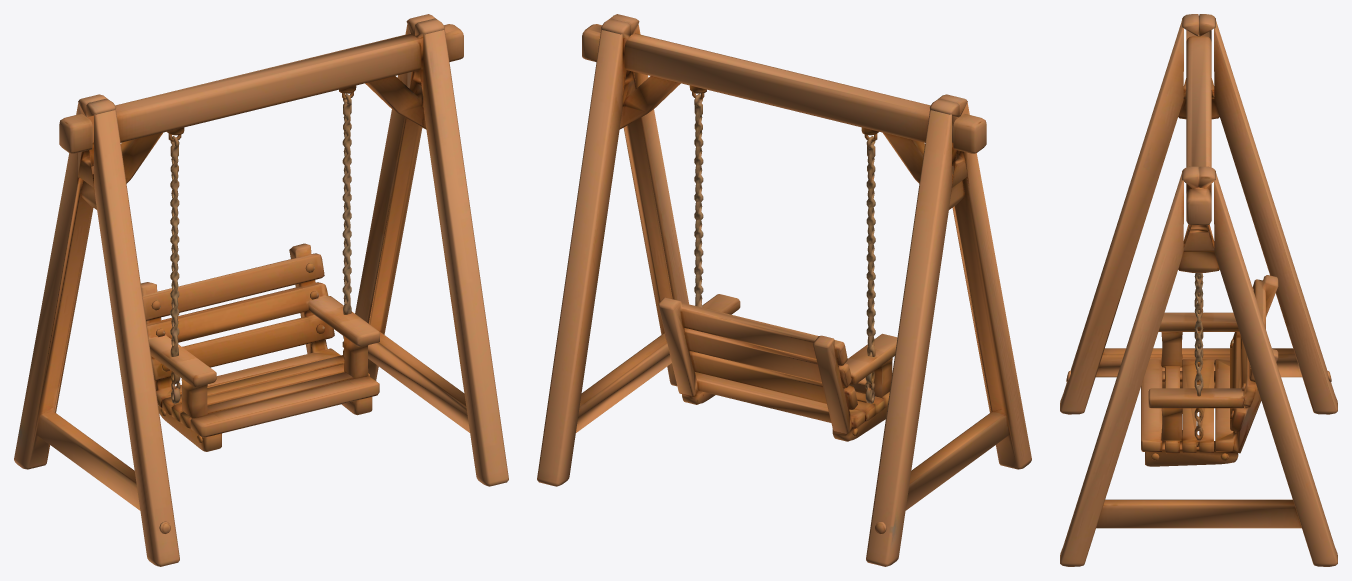
Rendered from Outdoor__a_wooden_swing_set_ebc9b573_v1.cluster.glb.
The picture shows the model from 3 angles, left to right: view 1: azimuth 30°, elevation 25°; view 2: azimuth 150°, elevation 25°; view 3: azimuth 270°, elevation 25°; orthographic projection. The views are drawn at different scales.
Parts seen in each view (by area): view 1: material; view 2: material; view 3: material.
Boxes of the visible parts, bbox=[...] form: material: bbox=[14, 14, 508, 566]; material: bbox=[537, 14, 1031, 566]; material: bbox=[1060, 14, 1337, 566].
Size of the model in its own units: 1.9 by 1.9 by 1.22.
Materials: 1 (1 with a texture image).
